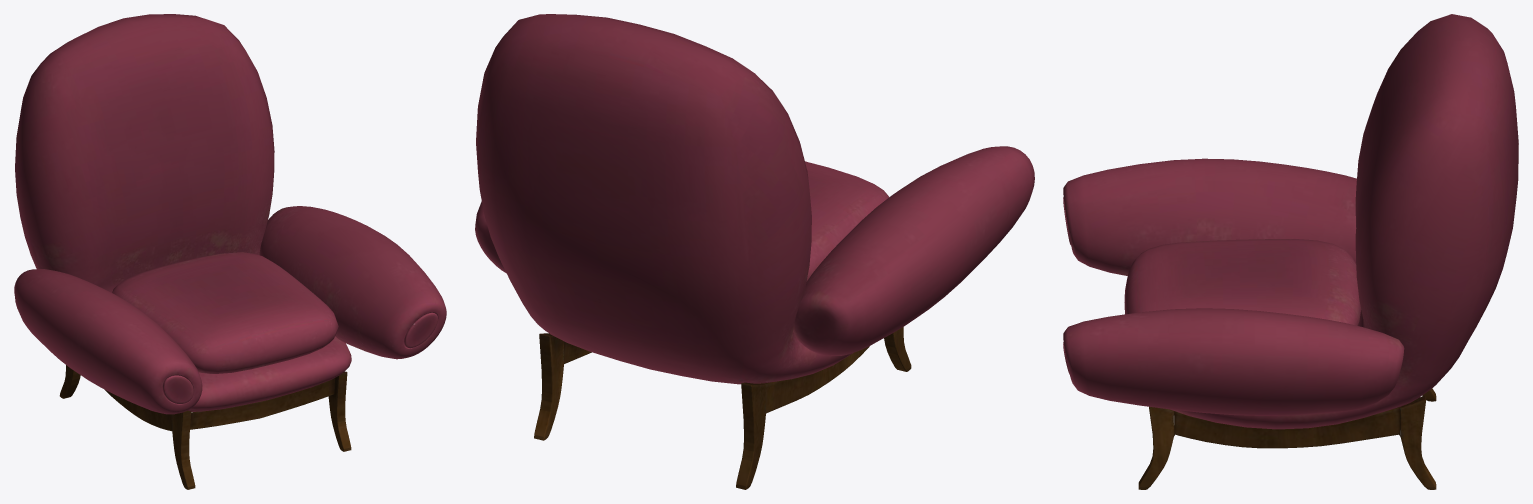
3 renders of one model, left to right at view 1: azimuth 30°, elevation 25°; view 2: azimuth 150°, elevation 25°; view 3: azimuth 270°, elevation 25°, orthographic. The views are drawn at different scales.
Visible parts, largest first — view 1: GEO_Chair_low; view 2: GEO_Chair_low; view 3: GEO_Chair_low.
Part boxes in pixels (box(x1,y1,x2,y2)): GEO_Chair_low: box(14, 14, 446, 489); GEO_Chair_low: box(475, 14, 1034, 489); GEO_Chair_low: box(1063, 14, 1518, 489).
Bounding box in the file's own units: 111 × 111 × 114.
Materials: 1 (1 with a texture image).
